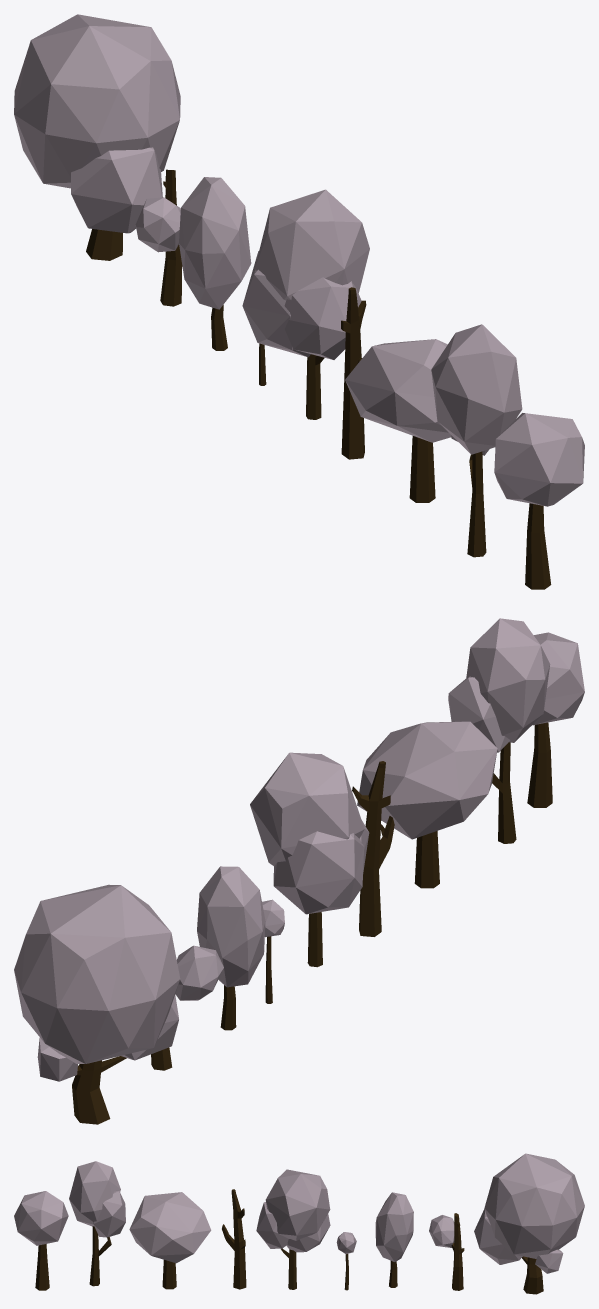
The model's file is winter-trees.obj.
3 views of the same model, one above another, from view 1: azimuth 30°, elevation 25°; view 2: azimuth 150°, elevation 25°; view 3: azimuth 270°, elevation 25° (orthographic). The views are drawn at different scales.
Visible parts, largest first — view 1: Icosphere.007_Icosphere.010, Icosphere.003_Icosphere.018, Icosphere.001_Icosphere.015, Icosphere.002_Icosphere.016, Icosphere.005_Icosphere.020, Icosphere_Icosphere.014, Cylinder.003_Cylinder.009, Icosphere.006_Icosphere.021, Cylinder_Cylinder.006, Cylinder.001_Cylinder.007, Cylinder.002_Cylinder.008, Cylinder.007_Cylinder.014 (+2 smaller); view 2: Icosphere.007_Icosphere.010, Icosphere.003_Icosphere.018, Icosphere.002_Icosphere.016, Icosphere.001_Icosphere.015, Icosphere.005_Icosphere.020, Cylinder.003_Cylinder.009, Icosphere_Icosphere.014, Icosphere.006_Icosphere.021, Cylinder.008_Cylinder.005, Cylinder_Cylinder.006, Cylinder.001_Cylinder.007, Cylinder.002_Cylinder.008 (+2 smaller); view 3: Icosphere.007_Icosphere.010, Icosphere.003_Icosphere.018, Icosphere.002_Icosphere.016, Icosphere.001_Icosphere.015, Icosphere_Icosphere.014, Icosphere.005_Icosphere.020, Cylinder.003_Cylinder.009, Icosphere.006_Icosphere.021, Cylinder.007_Cylinder.014, Cylinder.008_Cylinder.005, Cylinder.001_Cylinder.007, Cylinder_Cylinder.006 (+4 smaller).
Boxes of the visible parts, left/top/right/bottom form: Icosphere.007_Icosphere.010: left=14, top=14, right=180, bottom=233; Icosphere.003_Icosphere.018: left=242, top=189, right=369, bottom=359; Icosphere.001_Icosphere.015: left=431, top=324, right=522, bottom=455; Icosphere.002_Icosphere.016: left=345, top=339, right=451, bottom=442; Icosphere.005_Icosphere.020: left=179, top=177, right=251, bottom=309; Icosphere_Icosphere.014: left=494, top=413, right=584, bottom=506; Cylinder.003_Cylinder.009: left=341, top=287, right=366, bottom=459; Icosphere.006_Icosphere.021: left=135, top=197, right=180, bottom=252; Cylinder_Cylinder.006: left=525, top=503, right=551, bottom=589; Cylinder.001_Cylinder.007: left=467, top=451, right=486, bottom=557; Cylinder.002_Cylinder.008: left=409, top=436, right=435, bottom=502; Cylinder.007_Cylinder.014: left=160, top=169, right=182, bottom=306; Icosphere.007_Icosphere.010: left=14, top=884, right=180, bottom=1081; Icosphere.003_Icosphere.018: left=250, top=752, right=369, bottom=914; Icosphere.002_Icosphere.016: left=357, top=721, right=497, bottom=839; Icosphere.001_Icosphere.015: left=448, top=618, right=550, bottom=752; Icosphere.005_Icosphere.020: left=197, top=866, right=265, bottom=987; Cylinder.003_Cylinder.009: left=352, top=761, right=394, bottom=936; Icosphere_Icosphere.014: left=533, top=632, right=584, bottom=725; Icosphere.006_Icosphere.021: left=175, top=945, right=223, bottom=1000; Cylinder.008_Cylinder.005: left=72, top=1056, right=126, bottom=1124; Cylinder_Cylinder.006: left=527, top=722, right=552, bottom=807; Cylinder.001_Cylinder.007: left=492, top=742, right=516, bottom=843; Cylinder.002_Cylinder.008: left=414, top=831, right=439, bottom=888; Icosphere.007_Icosphere.010: left=474, top=1153, right=584, bottom=1273; Icosphere.003_Icosphere.018: left=256, top=1169, right=330, bottom=1252; Icosphere.002_Icosphere.016: left=129, top=1192, right=211, bottom=1263; Icosphere.001_Icosphere.015: left=69, top=1161, right=125, bottom=1237; Icosphere_Icosphere.014: left=14, top=1191, right=68, bottom=1245; Icosphere.005_Icosphere.020: left=375, top=1192, right=413, bottom=1261; Cylinder.003_Cylinder.009: left=222, top=1189, right=246, bottom=1289; Icosphere.006_Icosphere.021: left=429, top=1215, right=454, bottom=1247; Cylinder.007_Cylinder.014: left=451, top=1213, right=464, bottom=1290; Cylinder.008_Cylinder.005: left=522, top=1256, right=543, bottom=1294; Cylinder.001_Cylinder.007: left=89, top=1226, right=111, bottom=1286; Cylinder_Cylinder.006: left=35, top=1244, right=49, bottom=1290.
Size of the model in its own units: 10.08 by 16.27 by 63.23.
